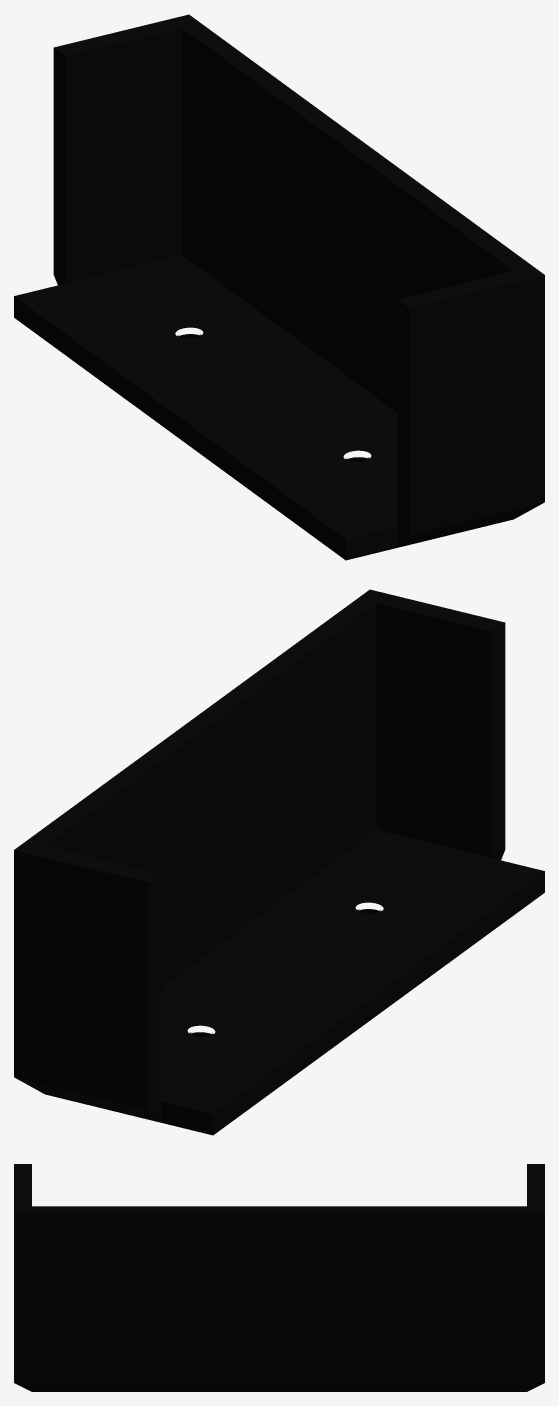
The picture shows the model from 3 angles, top to bottom: view 1: azimuth 30°, elevation 25°; view 2: azimuth 150°, elevation 25°; view 3: azimuth 270°, elevation 25°; orthographic projection. The views are drawn at different scales.
Visible parts, largest first — view 1: Cube.006; view 2: Cube.006; view 3: Cube.006.
Boxes of the visible parts, x1,y1,x2,y2 form: Cube.006: [14, 14, 544, 560]; Cube.006: [14, 589, 544, 1135]; Cube.006: [14, 1164, 544, 1391].
Size of the model in its own units: 1.33 by 1.69 by 4.39.
1 material, 1 textured.
